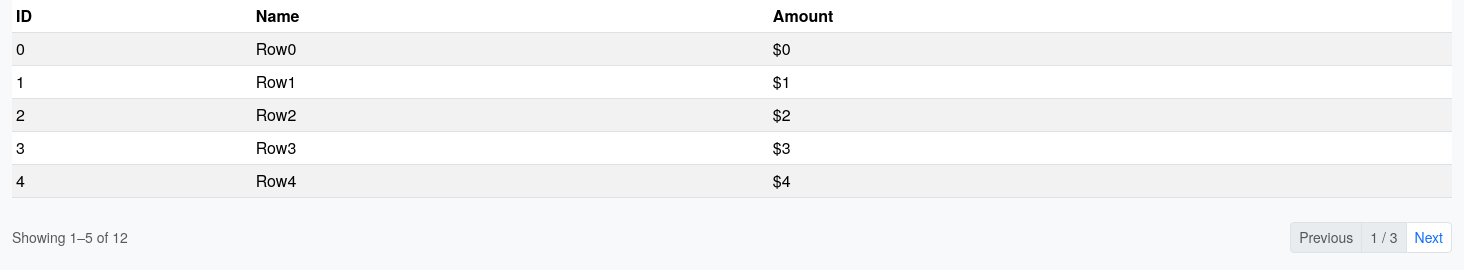
DataTable › paginates and navigates using Previous / Next
This screenshot has width=1464, height=270.
Expected: the text "1 / 3" is shown, 1361,222 -> 1407,253
Click the button "Next". click: x=1429, y=238
box: 1406,222 -> 1452,253
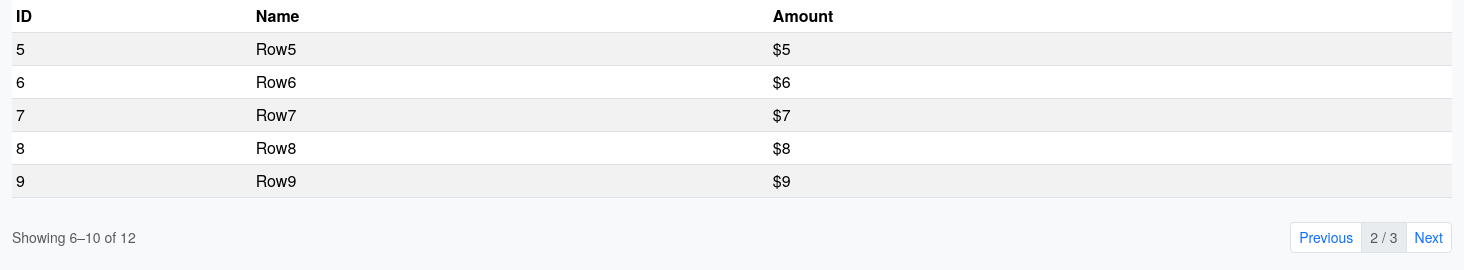
Expected: the text "2 / 3" is shown, 1361,222 -> 1407,253
Click the button "Next". click: x=1429, y=238
box: 1406,222 -> 1452,253
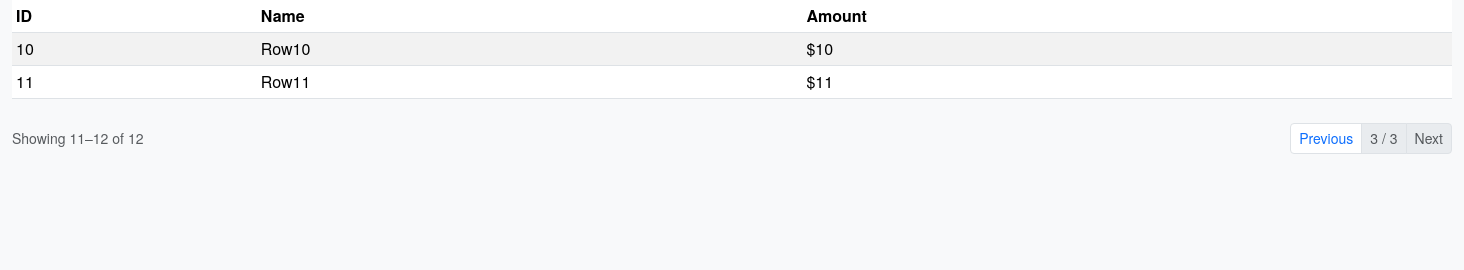
Expected: the text "3 / 3" is shown, 1361,123 -> 1407,154
Click the button "Previous". click: x=1326, y=138
box: 1290,123 -> 1362,154
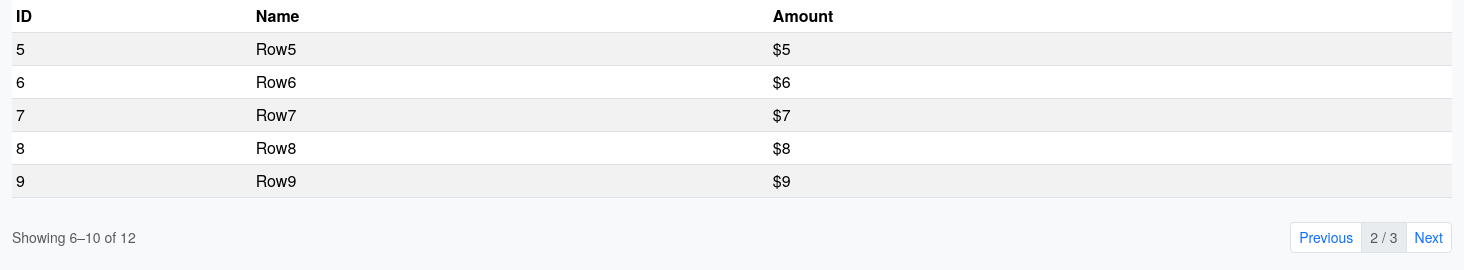
Expected: the text "2 / 3" is shown, 1361,222 -> 1407,253
